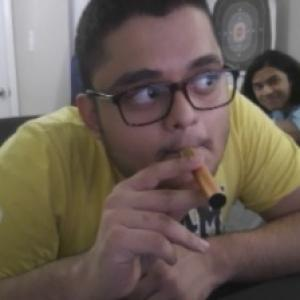Golden-E-Ciggirate: (180, 147, 229, 210)
